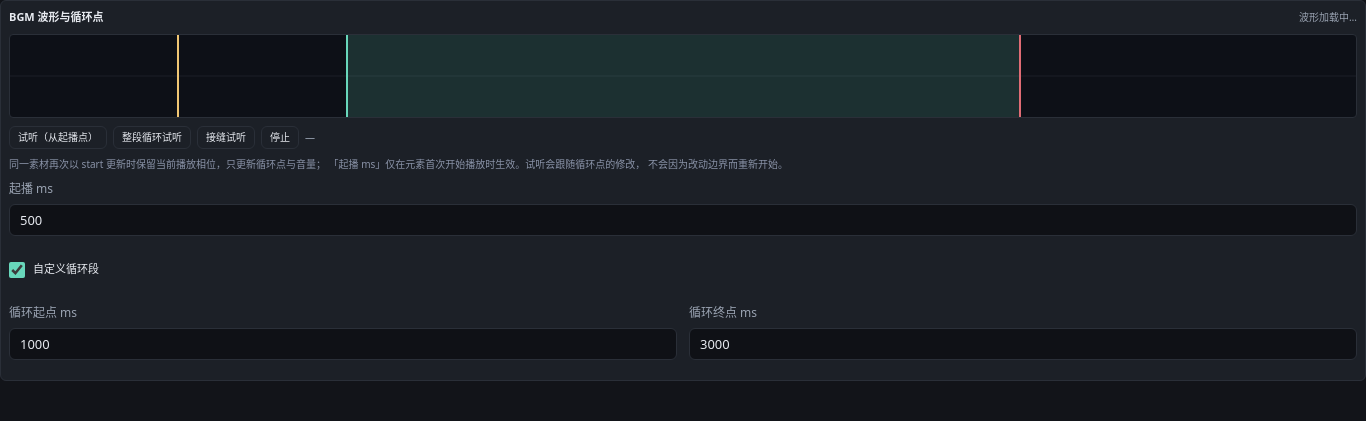
Test: AudioLoopEditor › surfaces a rejected play() visibly
Click the button "试听（从起播点）" at (58, 137), box [9,126,107,148]
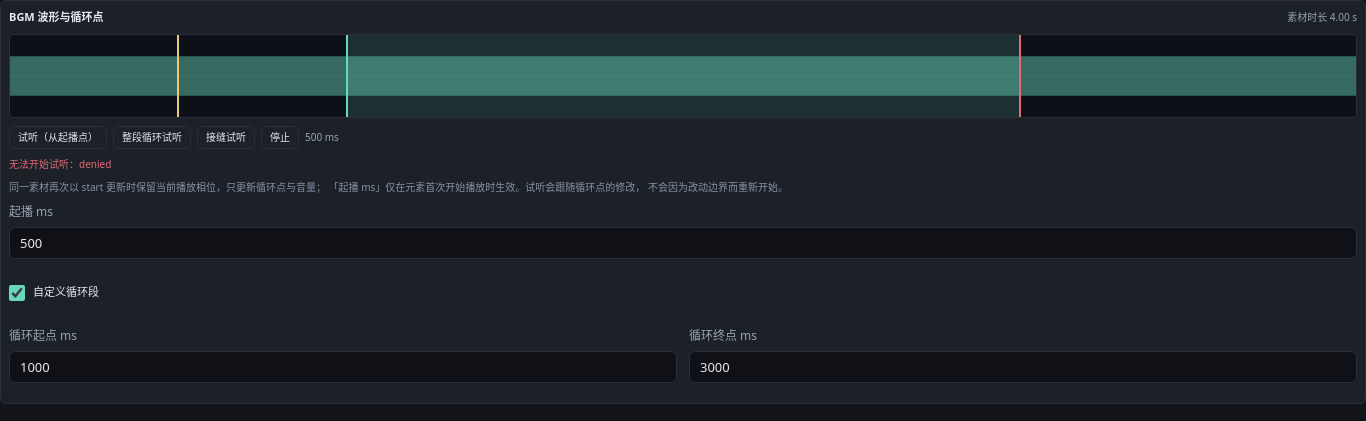
Now the message "无法开始试听：denied" is shown, box [9,156,111,170]
